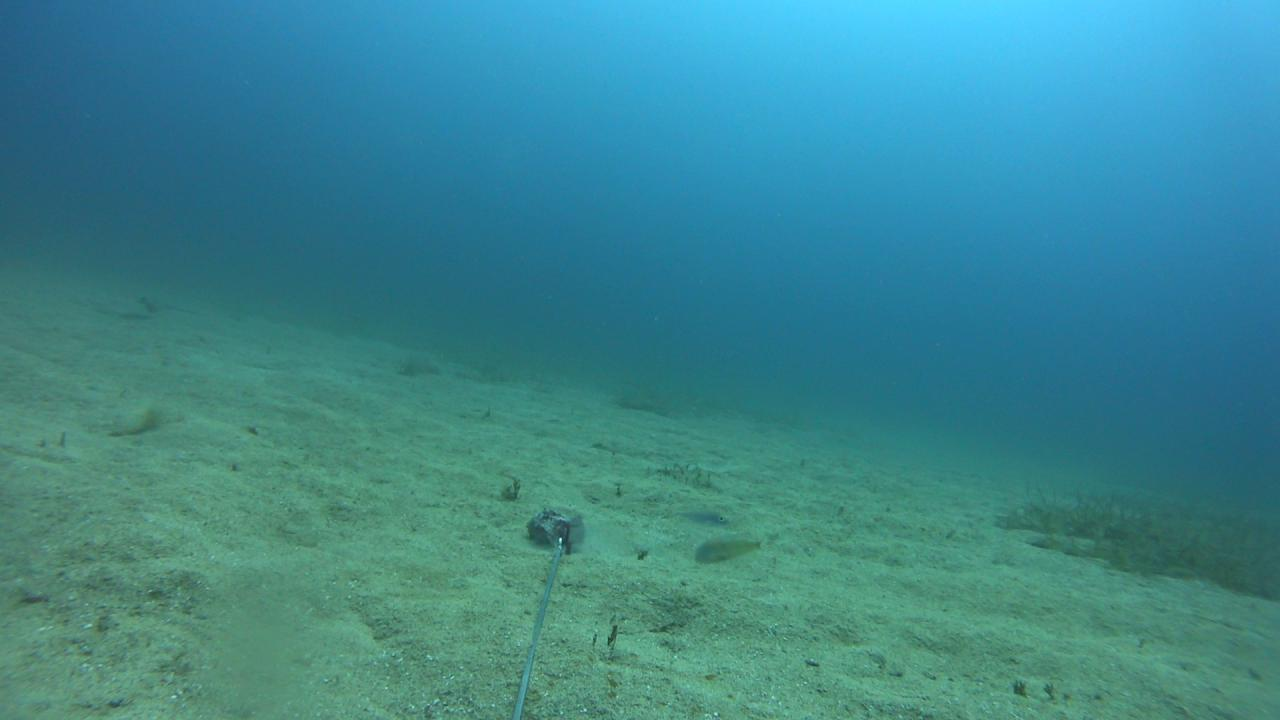dasyatis: (134, 294, 202, 314)
